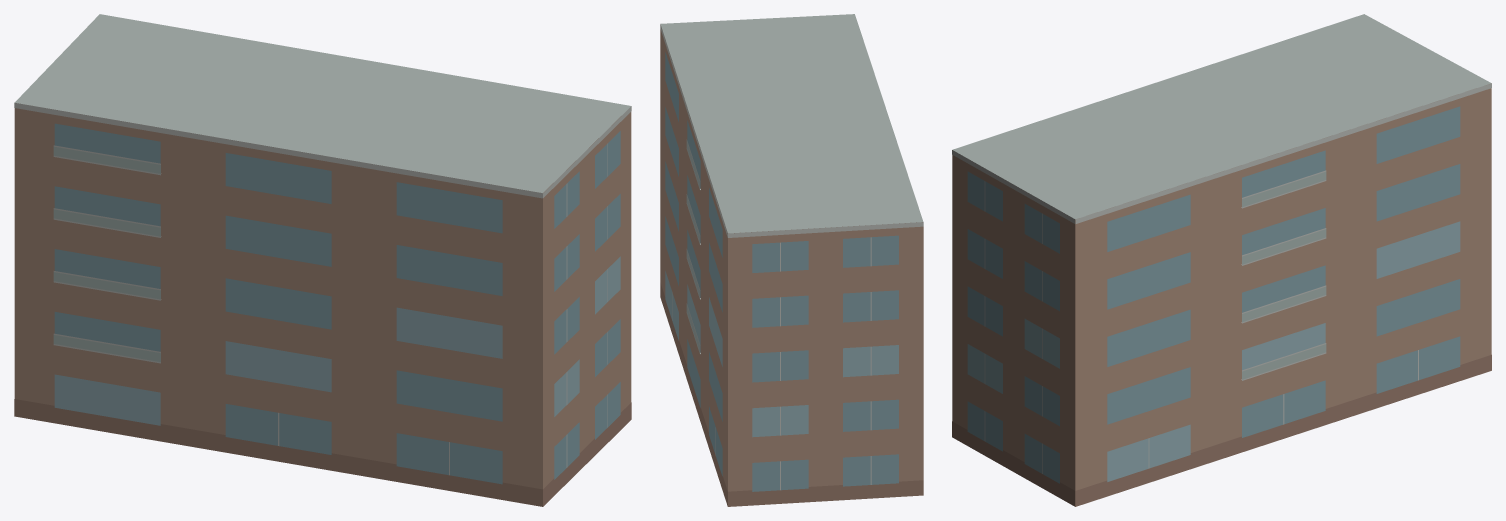
File: survey-upis-32596921.glb
3 renders of one model, left to right at view 1: azimuth 30°, elevation 25°; view 2: azimuth 150°, elevation 25°; view 3: azimuth 270°, elevation 25°, orthographic. The views are drawn at different scales.
Visible parts, largest first — view 1: survey-upis-32596921.tmp; view 2: survey-upis-32596921.tmp; view 3: survey-upis-32596921.tmp.
Boxes of the visible parts, left/top/right/bottom form: survey-upis-32596921.tmp: left=14, top=14, right=631, bottom=506; survey-upis-32596921.tmp: left=660, top=14, right=923, bottom=506; survey-upis-32596921.tmp: left=952, top=14, right=1491, bottom=506.
Bounding box in the file's own units: 22.23 × 14.5 × 24.67.
